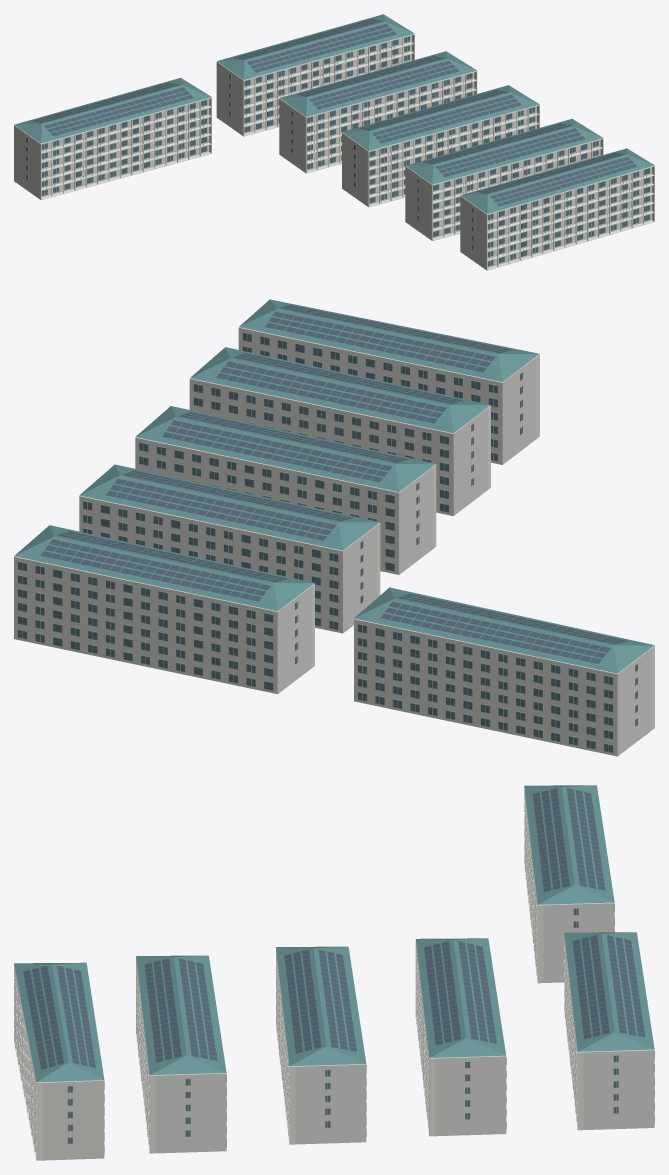
Rendered from seu_juyuan3_detail_v05.glb.
The picture shows the model from 3 angles, top to bottom: view 1: azimuth 30°, elevation 25°; view 2: azimuth 150°, elevation 25°; view 3: azimuth 270°, elevation 25°; orthographic projection. The views are drawn at different scales.
Visible parts, largest first — view 1: SEU_B_OSMWAY_1056927545__V05JY_room_core, SEU_B_OSMWAY_1056927551__V05JY_room_core, SEU_B_OSMWAY_1056927546__V05JY_room_core, SEU_B_OSMWAY_1056927547__V05JY_room_core, SEU_B_OSMWAY_1056927548__V05JY_room_core, SEU_B_OSMWAY_1056927548__V05JY_hip_roof, SEU_B_OSMWAY_1056927545__V05JY_hip_roof, SEU_B_OSMWAY_1056927546__V05JY_hip_roof, SEU_B_OSMWAY_1056927547__V05JY_hip_roof, SEU_B_OSMWAY_1056927549__V05JY_hip_roof, SEU_B_OSMWAY_1056927551__V05JY_balcony_slabs, SEU_B_OSMWAY_1056927545__V05JY_balcony_slabs (+36 smaller); view 2: SEU_B_OSMWAY_1056927546__V05JY_room_core, SEU_B_OSMWAY_1056927545__V05JY_room_core, SEU_B_OSMWAY_1056927547__V05JY_room_core, SEU_B_OSMWAY_1056927548__V05JY_room_core, SEU_B_OSMWAY_1056927549__V05JY_room_core, SEU_B_OSMWAY_1056927551__V05JY_room_core, SEU_B_OSMWAY_1056927546__V05JY_hip_roof, SEU_B_OSMWAY_1056927547__V05JY_hip_roof, SEU_B_OSMWAY_1056927548__V05JY_hip_roof, SEU_B_OSMWAY_1056927545__V05JY_hip_roof, SEU_B_OSMWAY_1056927549__V05JY_hip_roof, SEU_B_OSMWAY_1056927545__V05JY_window_glazing (+18 smaller); view 3: SEU_B_OSMWAY_1056927546__V05JY_hip_roof, SEU_B_OSMWAY_1056927547__V05JY_hip_roof, SEU_B_OSMWAY_1056927545__V05JY_hip_roof, SEU_B_OSMWAY_1056927548__V05JY_hip_roof, SEU_B_OSMWAY_1056927549__V05JY_hip_roof, SEU_B_OSMWAY_1056927551__V05JY_hip_roof, SEU_B_OSMWAY_1056927547__V05JY_room_core, SEU_B_OSMWAY_1056927548__V05JY_room_core, SEU_B_OSMWAY_1056927546__V05JY_room_core, SEU_B_OSMWAY_1056927549__V05JY_room_core, SEU_B_OSMWAY_1056927551__V05JY_room_core, SEU_B_OSMWAY_1056927547__V05JY_roof_panel_array (+19 smaller).
Boxes of the visible parts, box(x1,y1,x2,y2) form: SEU_B_OSMWAY_1056927545__V05JY_room_core: box(14, 99, 209, 198); SEU_B_OSMWAY_1056927551__V05JY_room_core: box(460, 167, 652, 268); SEU_B_OSMWAY_1056927546__V05JY_room_core: box(216, 35, 411, 134); SEU_B_OSMWAY_1056927547__V05JY_room_core: box(279, 72, 474, 171); SEU_B_OSMWAY_1056927548__V05JY_room_core: box(342, 106, 536, 205); SEU_B_OSMWAY_1056927548__V05JY_hip_roof: box(342, 85, 539, 150); SEU_B_OSMWAY_1056927545__V05JY_hip_roof: box(14, 78, 211, 143); SEU_B_OSMWAY_1056927546__V05JY_hip_roof: box(217, 14, 414, 79); SEU_B_OSMWAY_1056927547__V05JY_hip_roof: box(279, 51, 476, 116); SEU_B_OSMWAY_1056927549__V05JY_hip_roof: box(406, 118, 603, 184); SEU_B_OSMWAY_1056927551__V05JY_balcony_slabs: box(485, 166, 654, 270); SEU_B_OSMWAY_1056927545__V05JY_balcony_slabs: box(39, 97, 211, 199); SEU_B_OSMWAY_1056927546__V05JY_room_core: box(14, 556, 312, 694); SEU_B_OSMWAY_1056927545__V05JY_room_core: box(354, 618, 651, 756); SEU_B_OSMWAY_1056927547__V05JY_room_core: box(79, 495, 377, 633); SEU_B_OSMWAY_1056927548__V05JY_room_core: box(135, 437, 433, 574); SEU_B_OSMWAY_1056927549__V05JY_room_core: box(189, 378, 487, 515); SEU_B_OSMWAY_1056927551__V05JY_room_core: box(238, 327, 536, 464); SEU_B_OSMWAY_1056927546__V05JY_hip_roof: box(14, 525, 314, 611); SEU_B_OSMWAY_1056927547__V05JY_hip_roof: box(79, 464, 379, 550); SEU_B_OSMWAY_1056927548__V05JY_hip_roof: box(136, 406, 435, 491); SEU_B_OSMWAY_1056927545__V05JY_hip_roof: box(354, 587, 654, 673); SEU_B_OSMWAY_1056927549__V05JY_hip_roof: box(190, 347, 490, 433); SEU_B_OSMWAY_1056927545__V05JY_window_glazing: box(358, 624, 637, 752); SEU_B_OSMWAY_1056927546__V05JY_hip_roof: box(564, 932, 654, 1051); SEU_B_OSMWAY_1056927547__V05JY_hip_roof: box(415, 938, 505, 1057); SEU_B_OSMWAY_1056927545__V05JY_hip_roof: box(524, 785, 614, 904); SEU_B_OSMWAY_1056927548__V05JY_hip_roof: box(276, 946, 366, 1066); SEU_B_OSMWAY_1056927549__V05JY_hip_roof: box(136, 955, 226, 1075); SEU_B_OSMWAY_1056927551__V05JY_hip_roof: box(14, 962, 104, 1082); SEU_B_OSMWAY_1056927547__V05JY_room_core: box(435, 1055, 506, 1136); SEU_B_OSMWAY_1056927548__V05JY_room_core: box(295, 1064, 366, 1144); SEU_B_OSMWAY_1056927546__V05JY_room_core: box(583, 1049, 654, 1129); SEU_B_OSMWAY_1056927549__V05JY_room_core: box(155, 1073, 226, 1153); SEU_B_OSMWAY_1056927551__V05JY_room_core: box(42, 1080, 104, 1160); SEU_B_OSMWAY_1056927547__V05JY_roof_panel_array: box(424, 941, 496, 1045).
Bounding box in the file's own units: 160 × 21.9 × 146.
